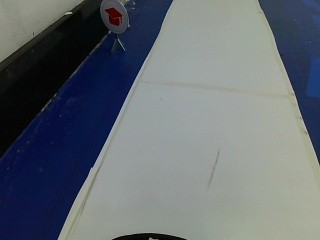school: (98, 0, 128, 35)
